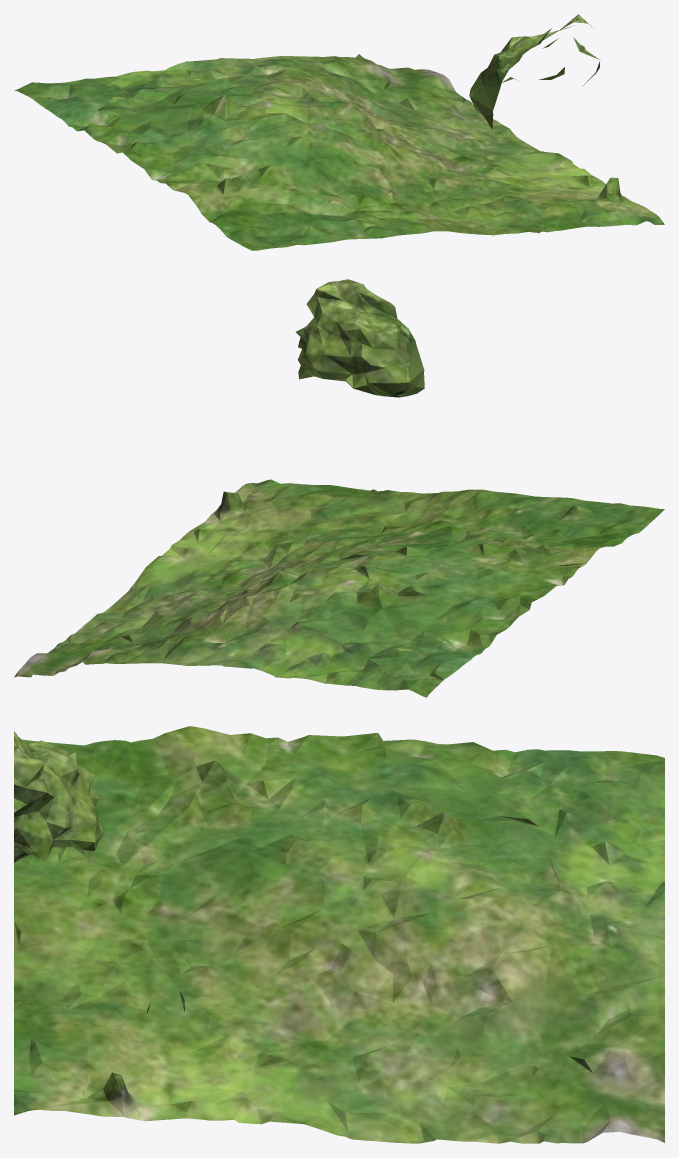
3 views of the same model, one above another, from view 1: azimuth 30°, elevation 25°; view 2: azimuth 150°, elevation 25°; view 3: azimuth 270°, elevation 25° (orthographic). The views are drawn at different scales.
Bounding box in the file's own units: 26.11 × 14.99 × 26.11.
Materials: 3 (3 with a texture image).
